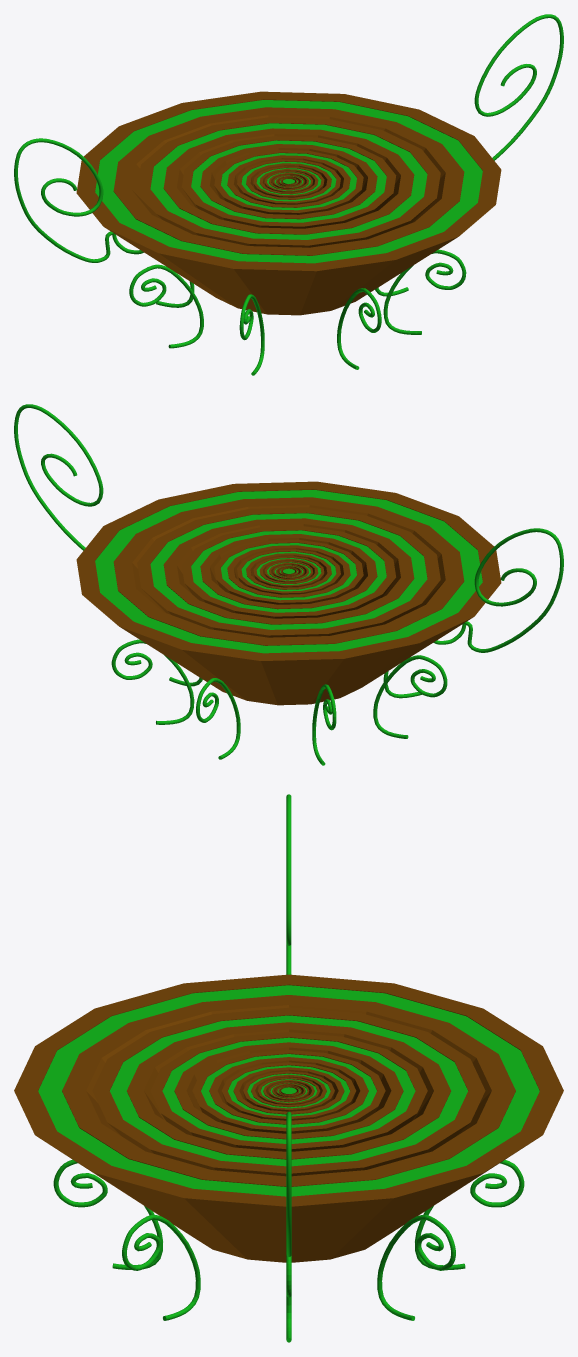
File: PotionStand.fbx
3 views of the same model, one above another, from view 1: azimuth 30°, elevation 25°; view 2: azimuth 150°, elevation 25°; view 3: azimuth 270°, elevation 25° (orthographic). The views are drawn at different scales.
Visible parts, largest first — view 1: Circle.009; view 2: Circle.009; view 3: Circle.009.
Part boxes in pixels (left/top/right/bottom): Circle.009: left=14, top=14, right=563, bottom=375; Circle.009: left=14, top=404, right=563, bottom=765; Circle.009: left=14, top=794, right=563, bottom=1342.
Size of the model in its own units: 96.49 by 40.91 by 65.19.
